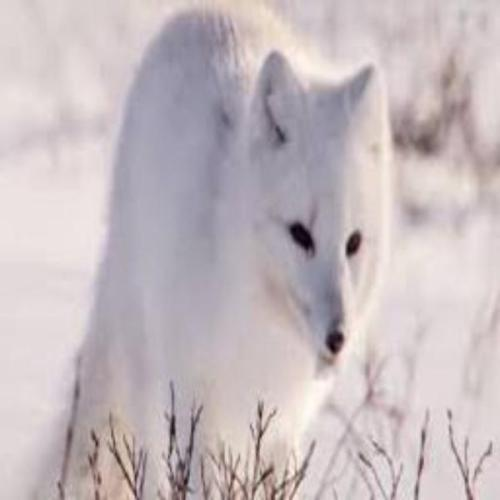arctic_fox-endangered: (82, 6, 392, 452)
